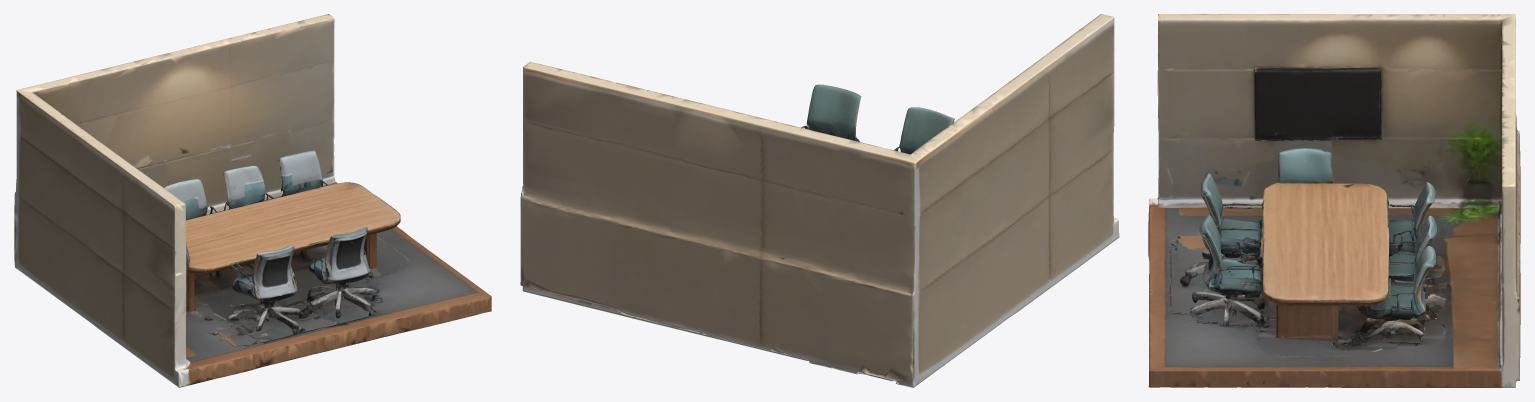
Rendered from model_1756628012129_d3c02af9-dab1-4fee-a270-5b1eefef5715.glb.
The picture shows the model from 3 angles, left to right: view 1: azimuth 30°, elevation 25°; view 2: azimuth 150°, elevation 25°; view 3: azimuth 270°, elevation 25°; orthographic projection. The views are drawn at different scales.
Bounding box in the file's own units: 2 × 1.1 × 1.83.
Materials: 1 (1 with a texture image).
